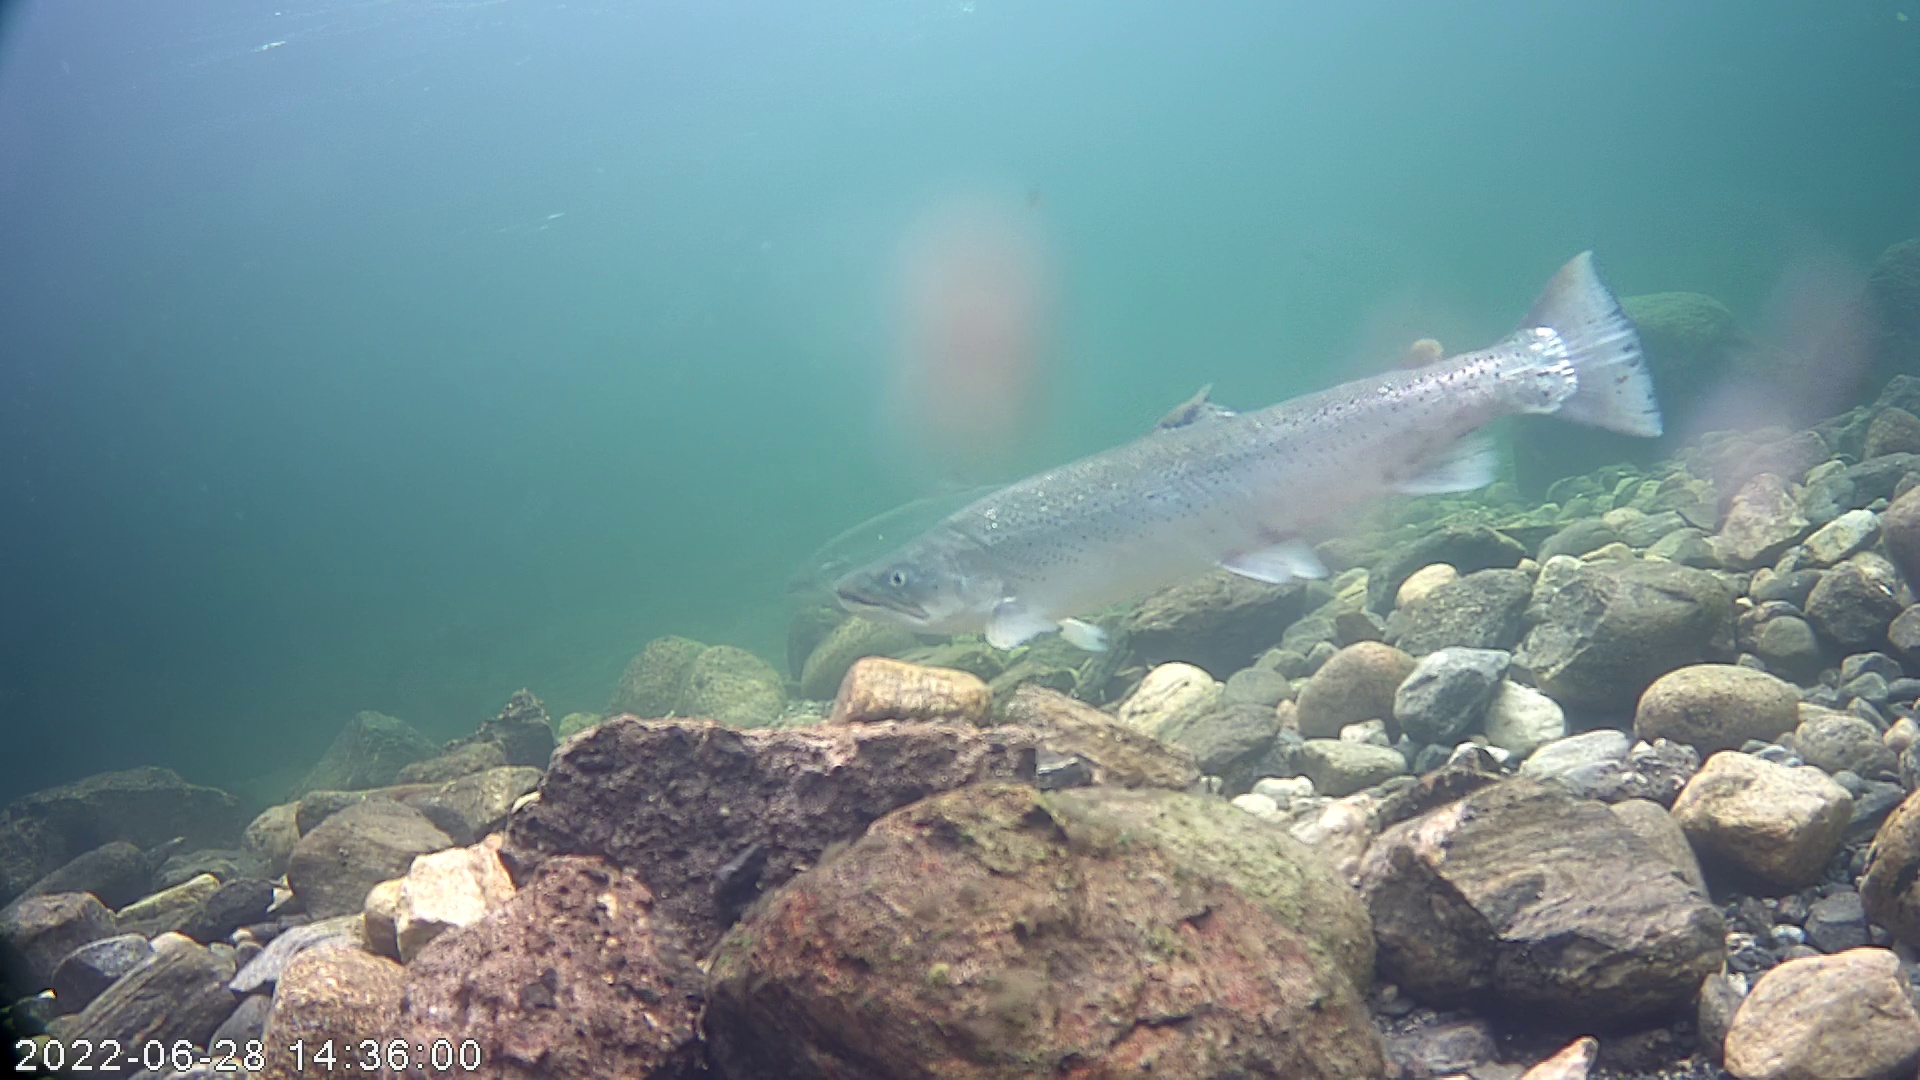salmon: (808, 194, 1681, 669)
